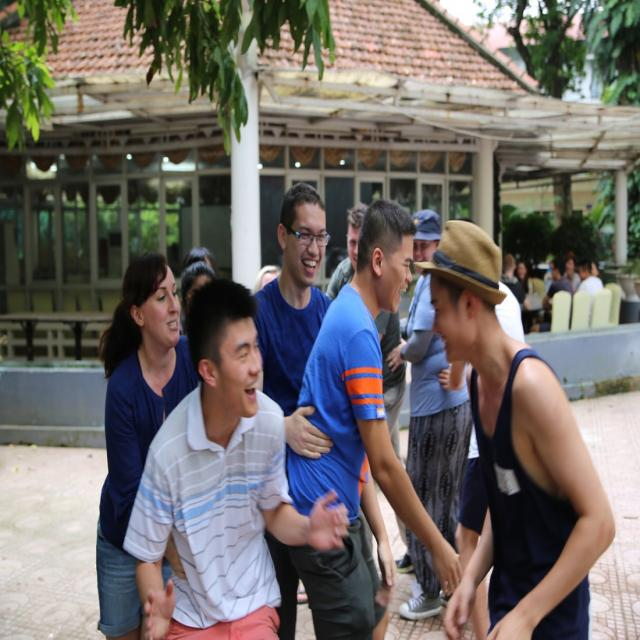body: (411, 218, 617, 639), (122, 276, 352, 639), (283, 198, 465, 639), (93, 249, 200, 640), (437, 216, 527, 640), (251, 181, 334, 640), (384, 210, 476, 622), (325, 202, 412, 578), (502, 250, 626, 329), (182, 243, 217, 329), (249, 261, 283, 296)
